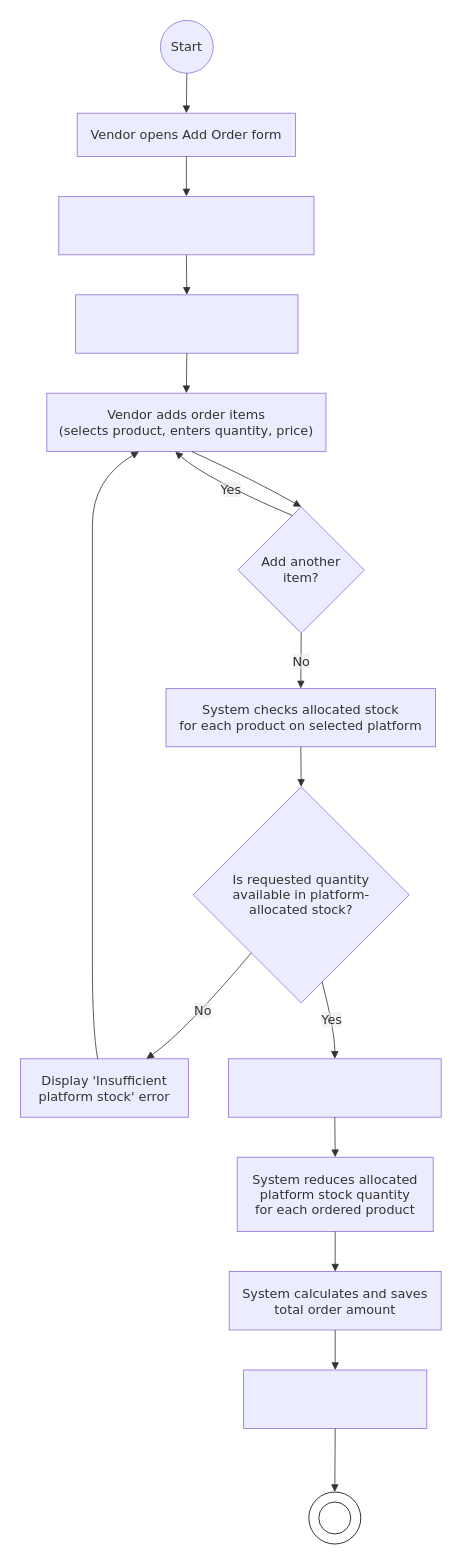
This 455x1558 diagram has some shape labels left out. The centre of each missing label's shape, as x and y in pixels:
"End" belongs at point 334,1517.
"System creates order record with status 'Pending'" belongs at point 334,1087.
"System displays order confirmation to vendor" belongs at point 335,1398.
"Vendor enters customer name and customer address" belongs at point 186,323.
"Vendor selects platform (e.g., Shopee, Lazada, TikTok Shop)" belongs at point 186,225.
